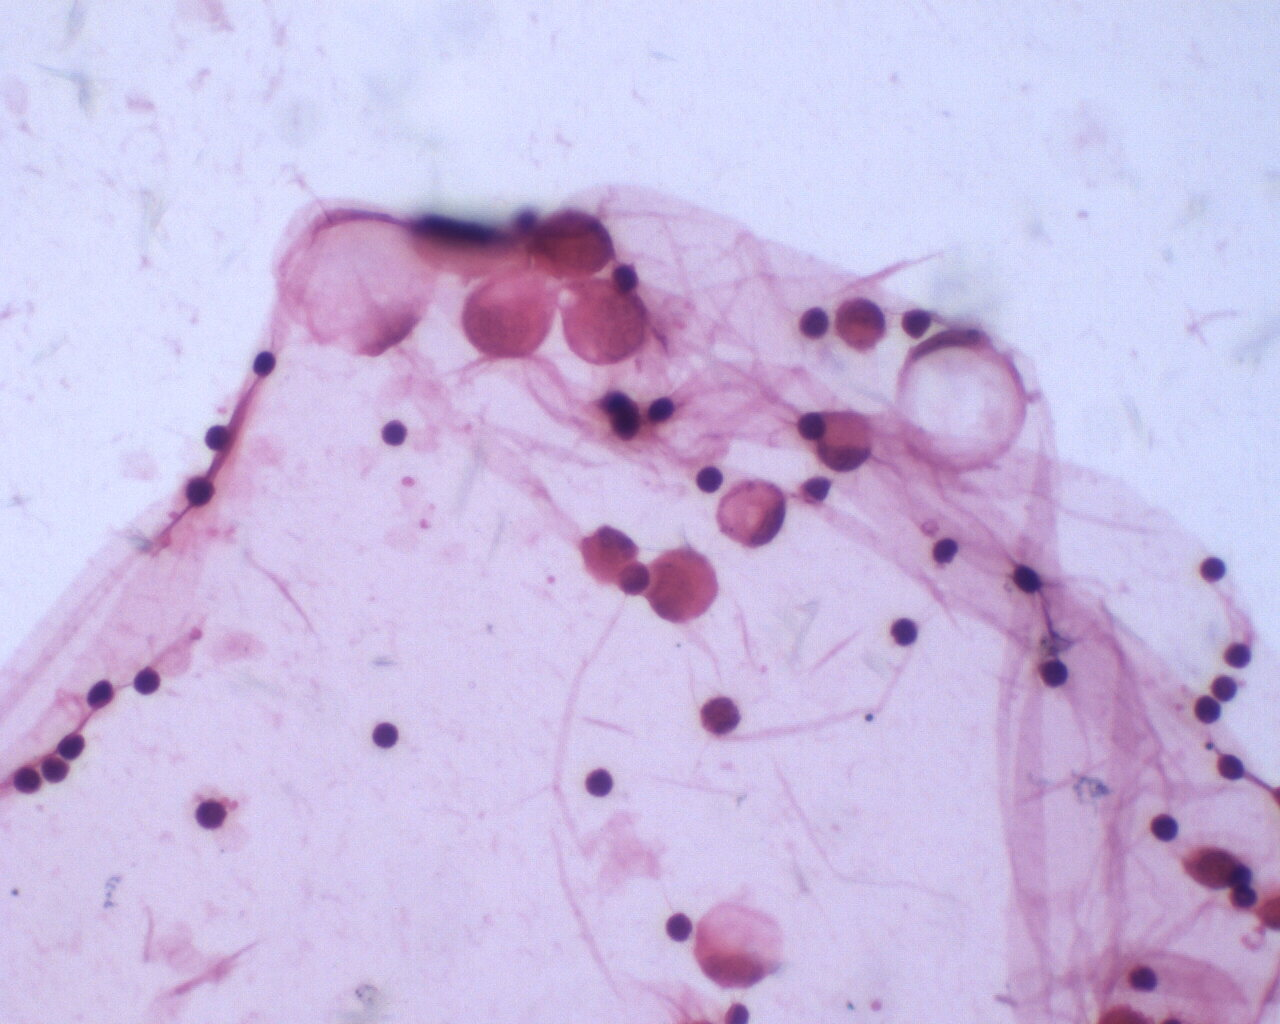ab: (462, 264, 563, 365), (563, 277, 652, 366)
histo: (892, 324, 1031, 469), (714, 473, 790, 553), (814, 405, 877, 474)
lymph: (369, 715, 406, 755), (1146, 807, 1185, 845), (132, 660, 170, 697), (885, 614, 922, 652), (797, 305, 833, 344), (1034, 659, 1076, 691), (584, 765, 616, 802), (665, 909, 698, 945), (14, 760, 42, 801), (695, 462, 728, 495), (1198, 551, 1228, 585), (1217, 747, 1246, 783), (381, 417, 409, 450)
